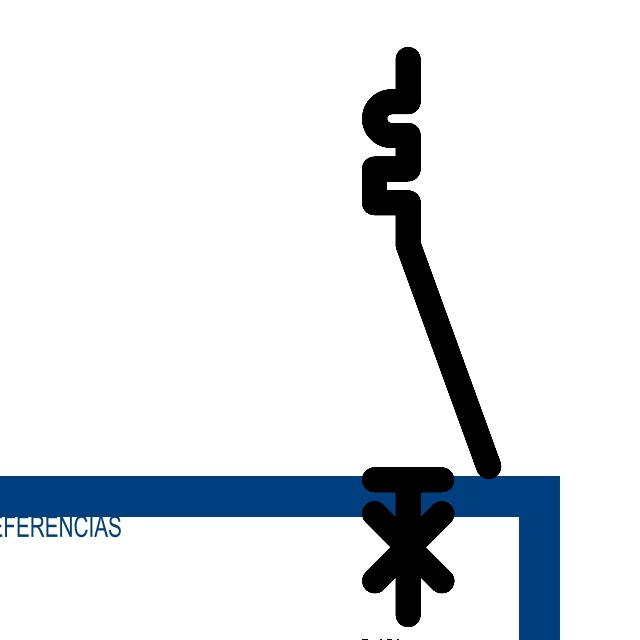interruptor_termomagnetico: (360, 45, 503, 629)
